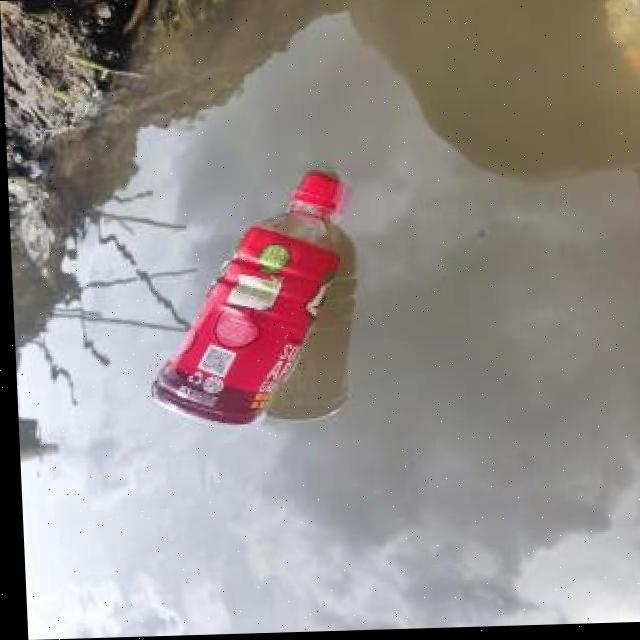bottle: (132, 168, 363, 435)
